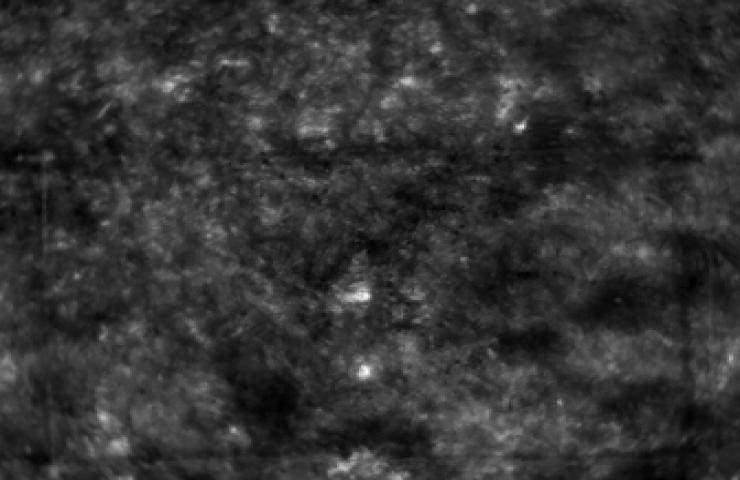landmines: (345, 285, 374, 308)
